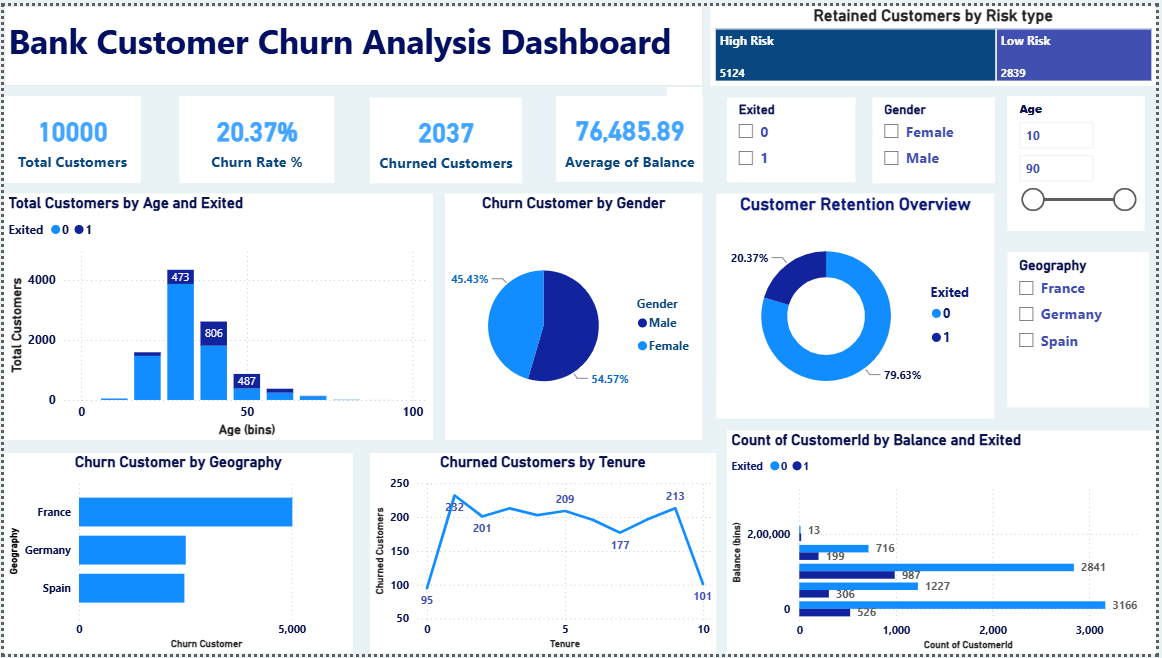

What the dashboard file says about the page in this screenshot:
{"tool":"powerbi","page":{"name":"Page 1","canvas":[1280,720],"ordinal":0},"visuals":[{"type":"textbox","box":[0,0,776.7,88.3],"z":0},{"type":"treemap","fields":{"Values":["Calculated Measure.Retained Customers"],"Group":["Churn_Modelling.Risk type"]},"box":[785,0,495,88.3],"z":1000},{"type":"card","fields":{"Values":["Calculated Measure.Total Customers"]},"box":[0,100,151.7,96.7],"z":2000},{"type":"card","fields":{"Values":["Calculated Measure.Churn Rate %"]},"box":[195,100,171.7,96.7],"z":3000},{"type":"card","fields":{"Values":["Calculated Measure.Churned Customers"]},"box":[406.7,101.7,168.3,95],"z":4000},{"type":"card","fields":{"Values":["Avg(Churn_Modelling.Balance)"]},"box":[613.3,100,163.3,95],"z":5000},{"type":"donutChart","title":"Customer Retention Overview","fields":{"Y":["Calculated Measure.Total Customers"],"Category":["Churn_Modelling.Exited"]},"box":[791.9,209,308.9,249.8],"z":6000},{"type":"barChart","fields":{"Category":["Churn_Modelling.Geography"],"Y":["CountNonNull(Churn_Modelling.Exited)"]},"box":[0,496.7,387.6,222.6],"z":7000},{"type":"pieChart","fields":{"Category":["Churn_Modelling.Gender"],"Y":["CountNonNull(Churn_Modelling.Exited)"]},"box":[490.6,209,286.2,274.1],"z":8000},{"type":"columnChart","title":"Total Customers by Age and Exited","fields":{"Category":["Churn_Modelling.Age (bins)"],"Y":["Calculated Measure.Total Customers"],"Series":["Churn_Modelling.Exited"]},"box":[0,209,477,274.1],"z":9000},{"type":"lineChart","fields":{"Y":["Calculated Measure.Churned Customers"],"Category":["Churn_Modelling.Tenure"]},"box":[407.3,496.7,384.6,222.6],"z":10000},{"type":"clusteredBarChart","title":"Count of CustomerId by Balance and Exited","fields":{"Category":["Churn_Modelling.Balance (bins)"],"Y":["CountNonNull(Churn_Modelling.CustomerId)"],"Series":["Churn_Modelling.Exited"]},"box":[802.5,470.9,477,248.3],"z":11000},{"type":"slicer","fields":{"Values":["Churn_Modelling.Geography"]},"box":[1114.5,274.1,157.5,172.6],"z":12000},{"type":"slicer","fields":{"Values":["Churn_Modelling.Exited"]},"box":[802.5,101.5,142.3,93.9],"z":13000},{"type":"slicer","fields":{"Values":["Churn_Modelling.Gender"]},"box":[964.5,101.5,136.3,95.4],"z":14000},{"type":"slicer","fields":{"Values":["Churn_Modelling.Age (bins)"]},"box":[1114.5,99.9,151.4,149.9],"z":14001}]}

Visuals, with their boxes in screenshot pixels (x1, y1, x2, y2), scaled from the page's 1280x720 canvas onto the 1162x658 screenshot:
textbox: [left=0, top=0, right=705, bottom=81]
treemap - Calculated Measure.Retained Customers x Churn_Modelling.Risk type: [left=713, top=0, right=1161, bottom=81]
card - Calculated Measure.Total Customers: [left=0, top=91, right=138, bottom=180]
card - Calculated Measure.Churn Rate %: [left=177, top=91, right=333, bottom=180]
card - Calculated Measure.Churned Customers: [left=369, top=93, right=522, bottom=180]
card - Avg(Churn_Modelling.Balance): [left=557, top=91, right=705, bottom=178]
"Customer Retention Overview" donutChart: [left=719, top=191, right=999, bottom=419]
barChart - Churn_Modelling.Geography x CountNonNull(Churn_Modelling.Exited): [left=0, top=454, right=352, bottom=657]
pieChart - Churn_Modelling.Gender x CountNonNull(Churn_Modelling.Exited): [left=445, top=191, right=705, bottom=441]
"Total Customers by Age and Exited" columnChart: [left=0, top=191, right=433, bottom=441]
lineChart - Calculated Measure.Churned Customers x Churn_Modelling.Tenure: [left=370, top=454, right=719, bottom=657]
"Count of CustomerId by Balance and Exited" clusteredBarChart: [left=729, top=430, right=1161, bottom=657]
slicer - Churn_Modelling.Geography: [left=1012, top=250, right=1155, bottom=408]
slicer - Churn_Modelling.Exited: [left=729, top=93, right=858, bottom=179]
slicer - Churn_Modelling.Gender: [left=876, top=93, right=999, bottom=180]
slicer - Churn_Modelling.Age (bins): [left=1012, top=91, right=1149, bottom=228]
